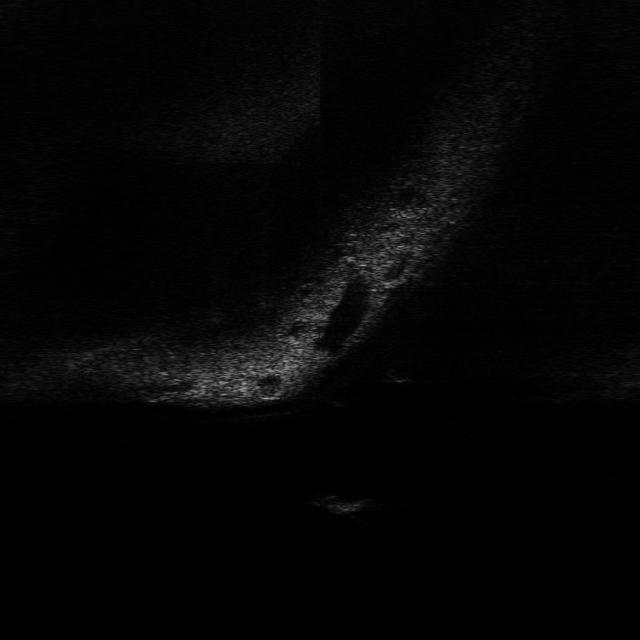ball: (383, 355, 419, 384)
cube: (303, 491, 379, 517)
